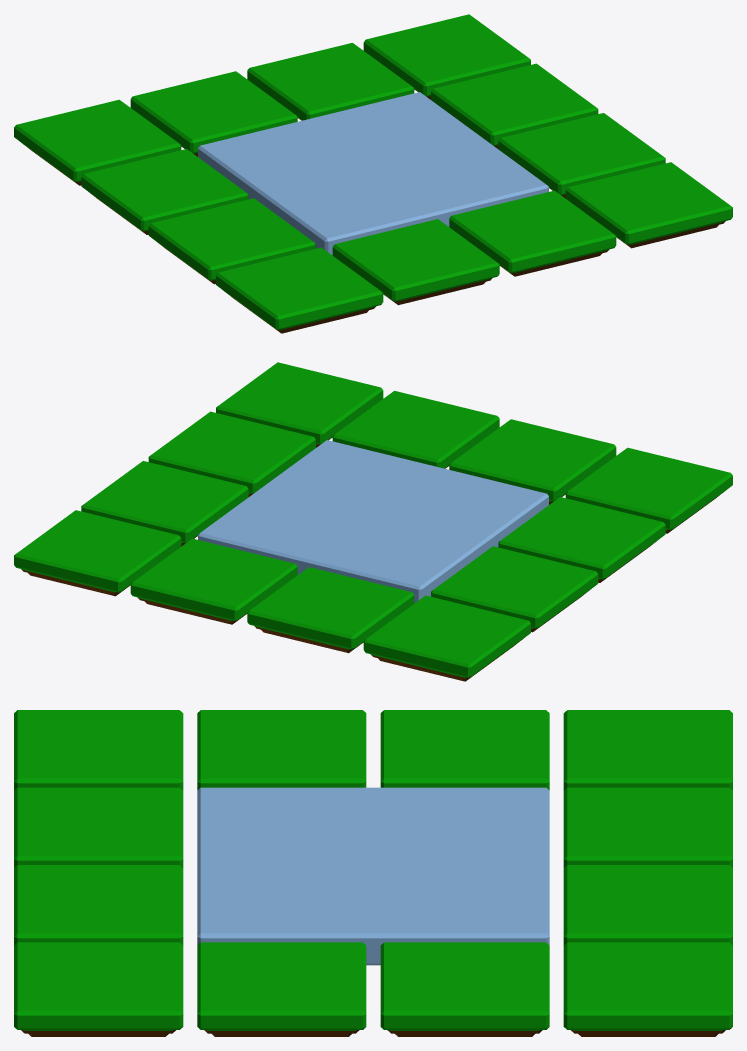
The model's file is board_complete_mc.fbx.
3 views of the same model, one above another, from view 1: azimuth 30°, elevation 25°; view 2: azimuth 150°, elevation 25°; view 3: azimuth 270°, elevation 25° (orthographic). The views are drawn at different scales.
Visible parts, largest first — view 1: board_complete_vox; view 2: board_complete_vox; view 3: board_complete_vox.
Boxes of the visible parts, <box> form: board_complete_vox: <box>14,14,732,333</box>; board_complete_vox: <box>14,362,732,681</box>; board_complete_vox: <box>14,710,732,1036</box>.
Bounding box in the file's own units: 10.2 × 0.5 × 10.2.
